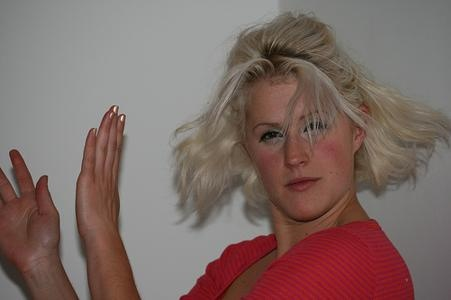person without safety: (150, 11, 419, 300)
